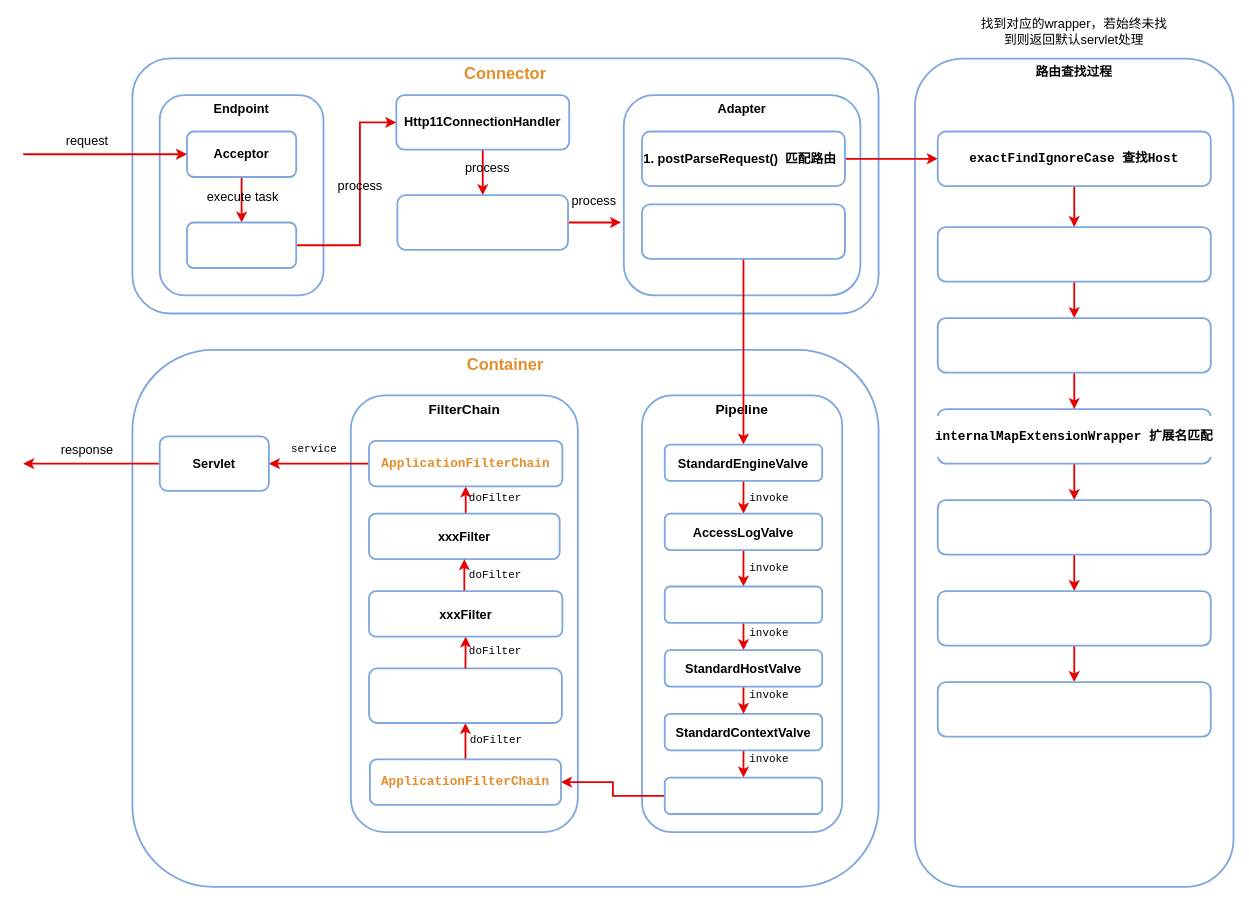
Image size: 1249x903. Some labels were removed from this diagram. Each missing label, with the centre of its shape:
2. 路由匹配成功则进入Pipeline: pixel 743 231
AbstractHttp11Processor: pixel 482 222
Default servlet: pixel 1073 709
ErrorReportValve: pixel 743 604
internalMapExactWrapper 精确匹配: pixel 1073 254
internalMapWildcardWrapper 通配符匹配: pixel 1073 345
SetCharacterEncodingFilter: pixel 465 695
SocketProcessor: pixel 241 244
StandardWrapperValve: pixel 743 795
welcome file processing: pixel 1073 618
Welcome resources processing: pixel 1073 527
